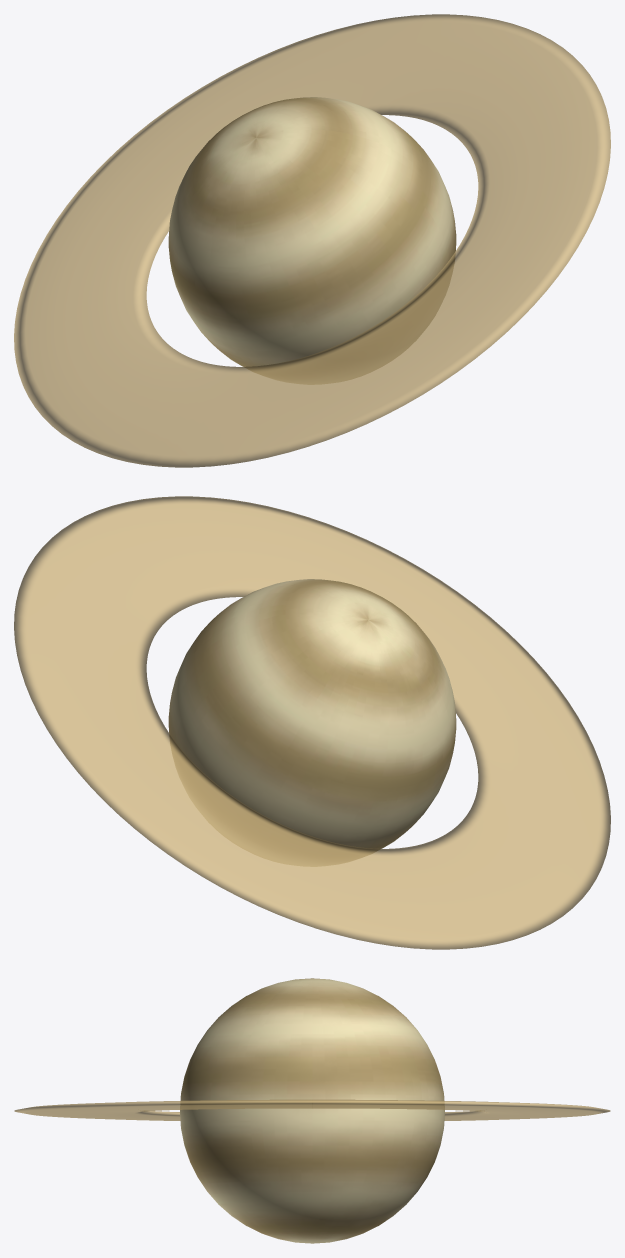
The model's file is saturnus.glb.
3 renders of one model, top to bottom at view 1: azimuth 30°, elevation 25°; view 2: azimuth 150°, elevation 25°; view 3: azimuth 270°, elevation 25°, orthographic. The views are drawn at different scales.
Visible parts, largest first — view 1: Cincin, Saturnus; view 2: Cincin, Saturnus; view 3: Saturnus, Cincin.
Part boxes in pixels (x1,y1,x2,y2): Cincin: [14, 14, 610, 467]; Saturnus: [168, 97, 456, 384]; Cincin: [14, 496, 610, 949]; Saturnus: [168, 579, 456, 866]; Saturnus: [180, 978, 444, 1243]; Cincin: [14, 1099, 610, 1120].
Bounding box in the file's own units: 0.4824 × 0.2426 × 0.54.
Materials: 2 (1 with a texture image).
